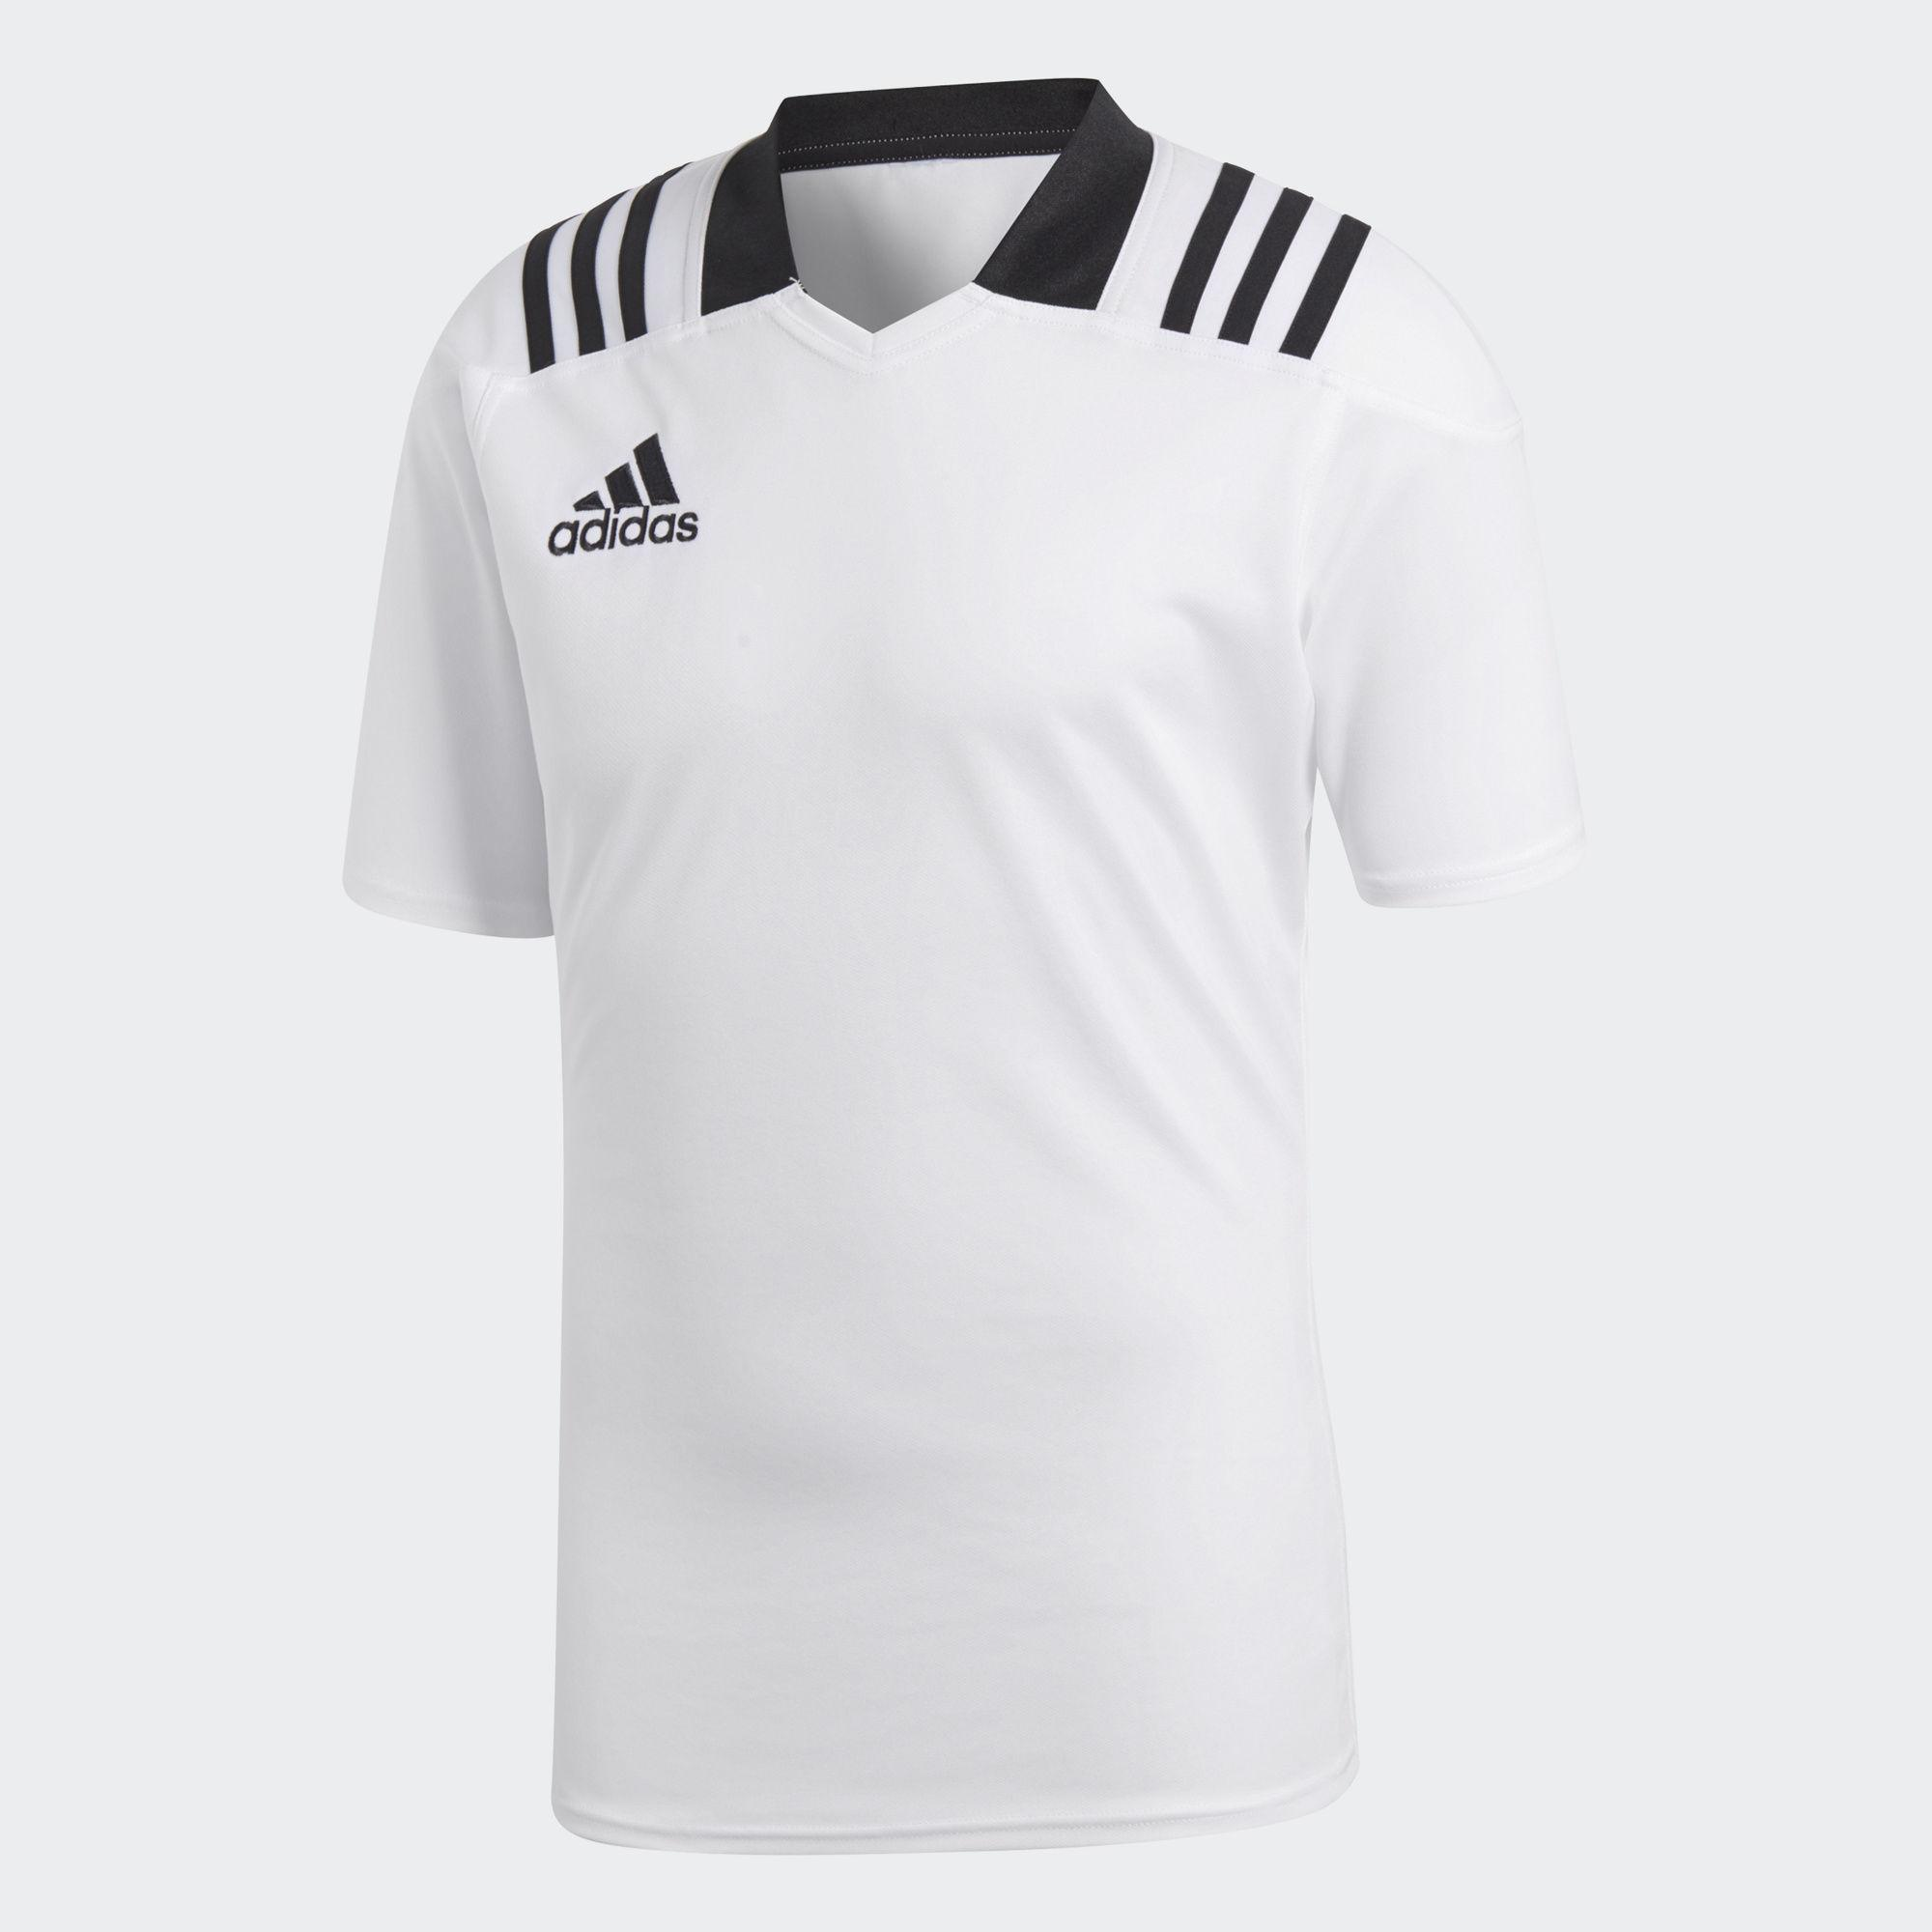teeshirt: (311, 67, 1564, 1911)
